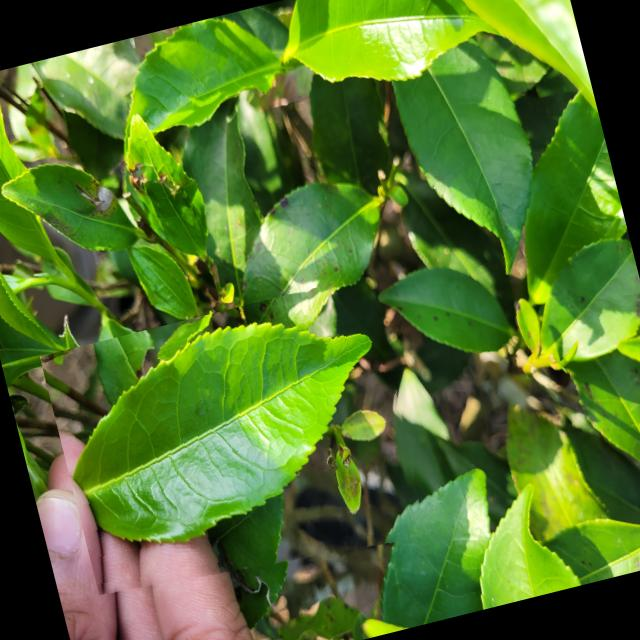Category B(2-4 days): (38, 273, 436, 616)
